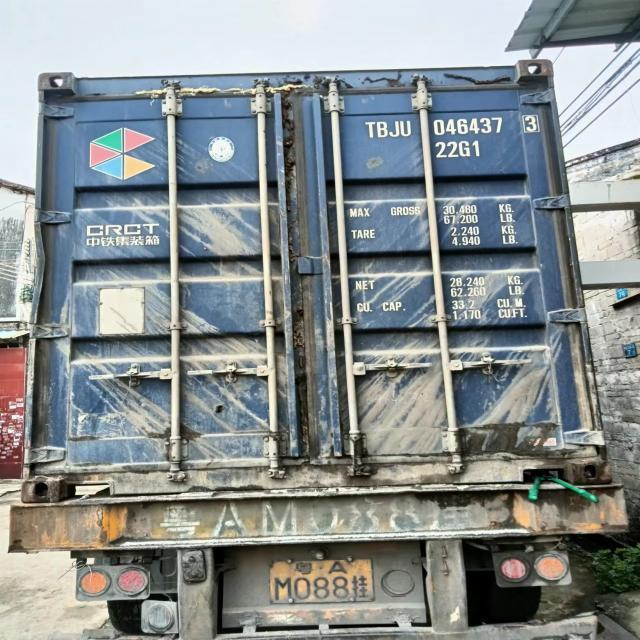ISO: (437, 139, 482, 160)
container_number: (370, 116, 530, 138)
